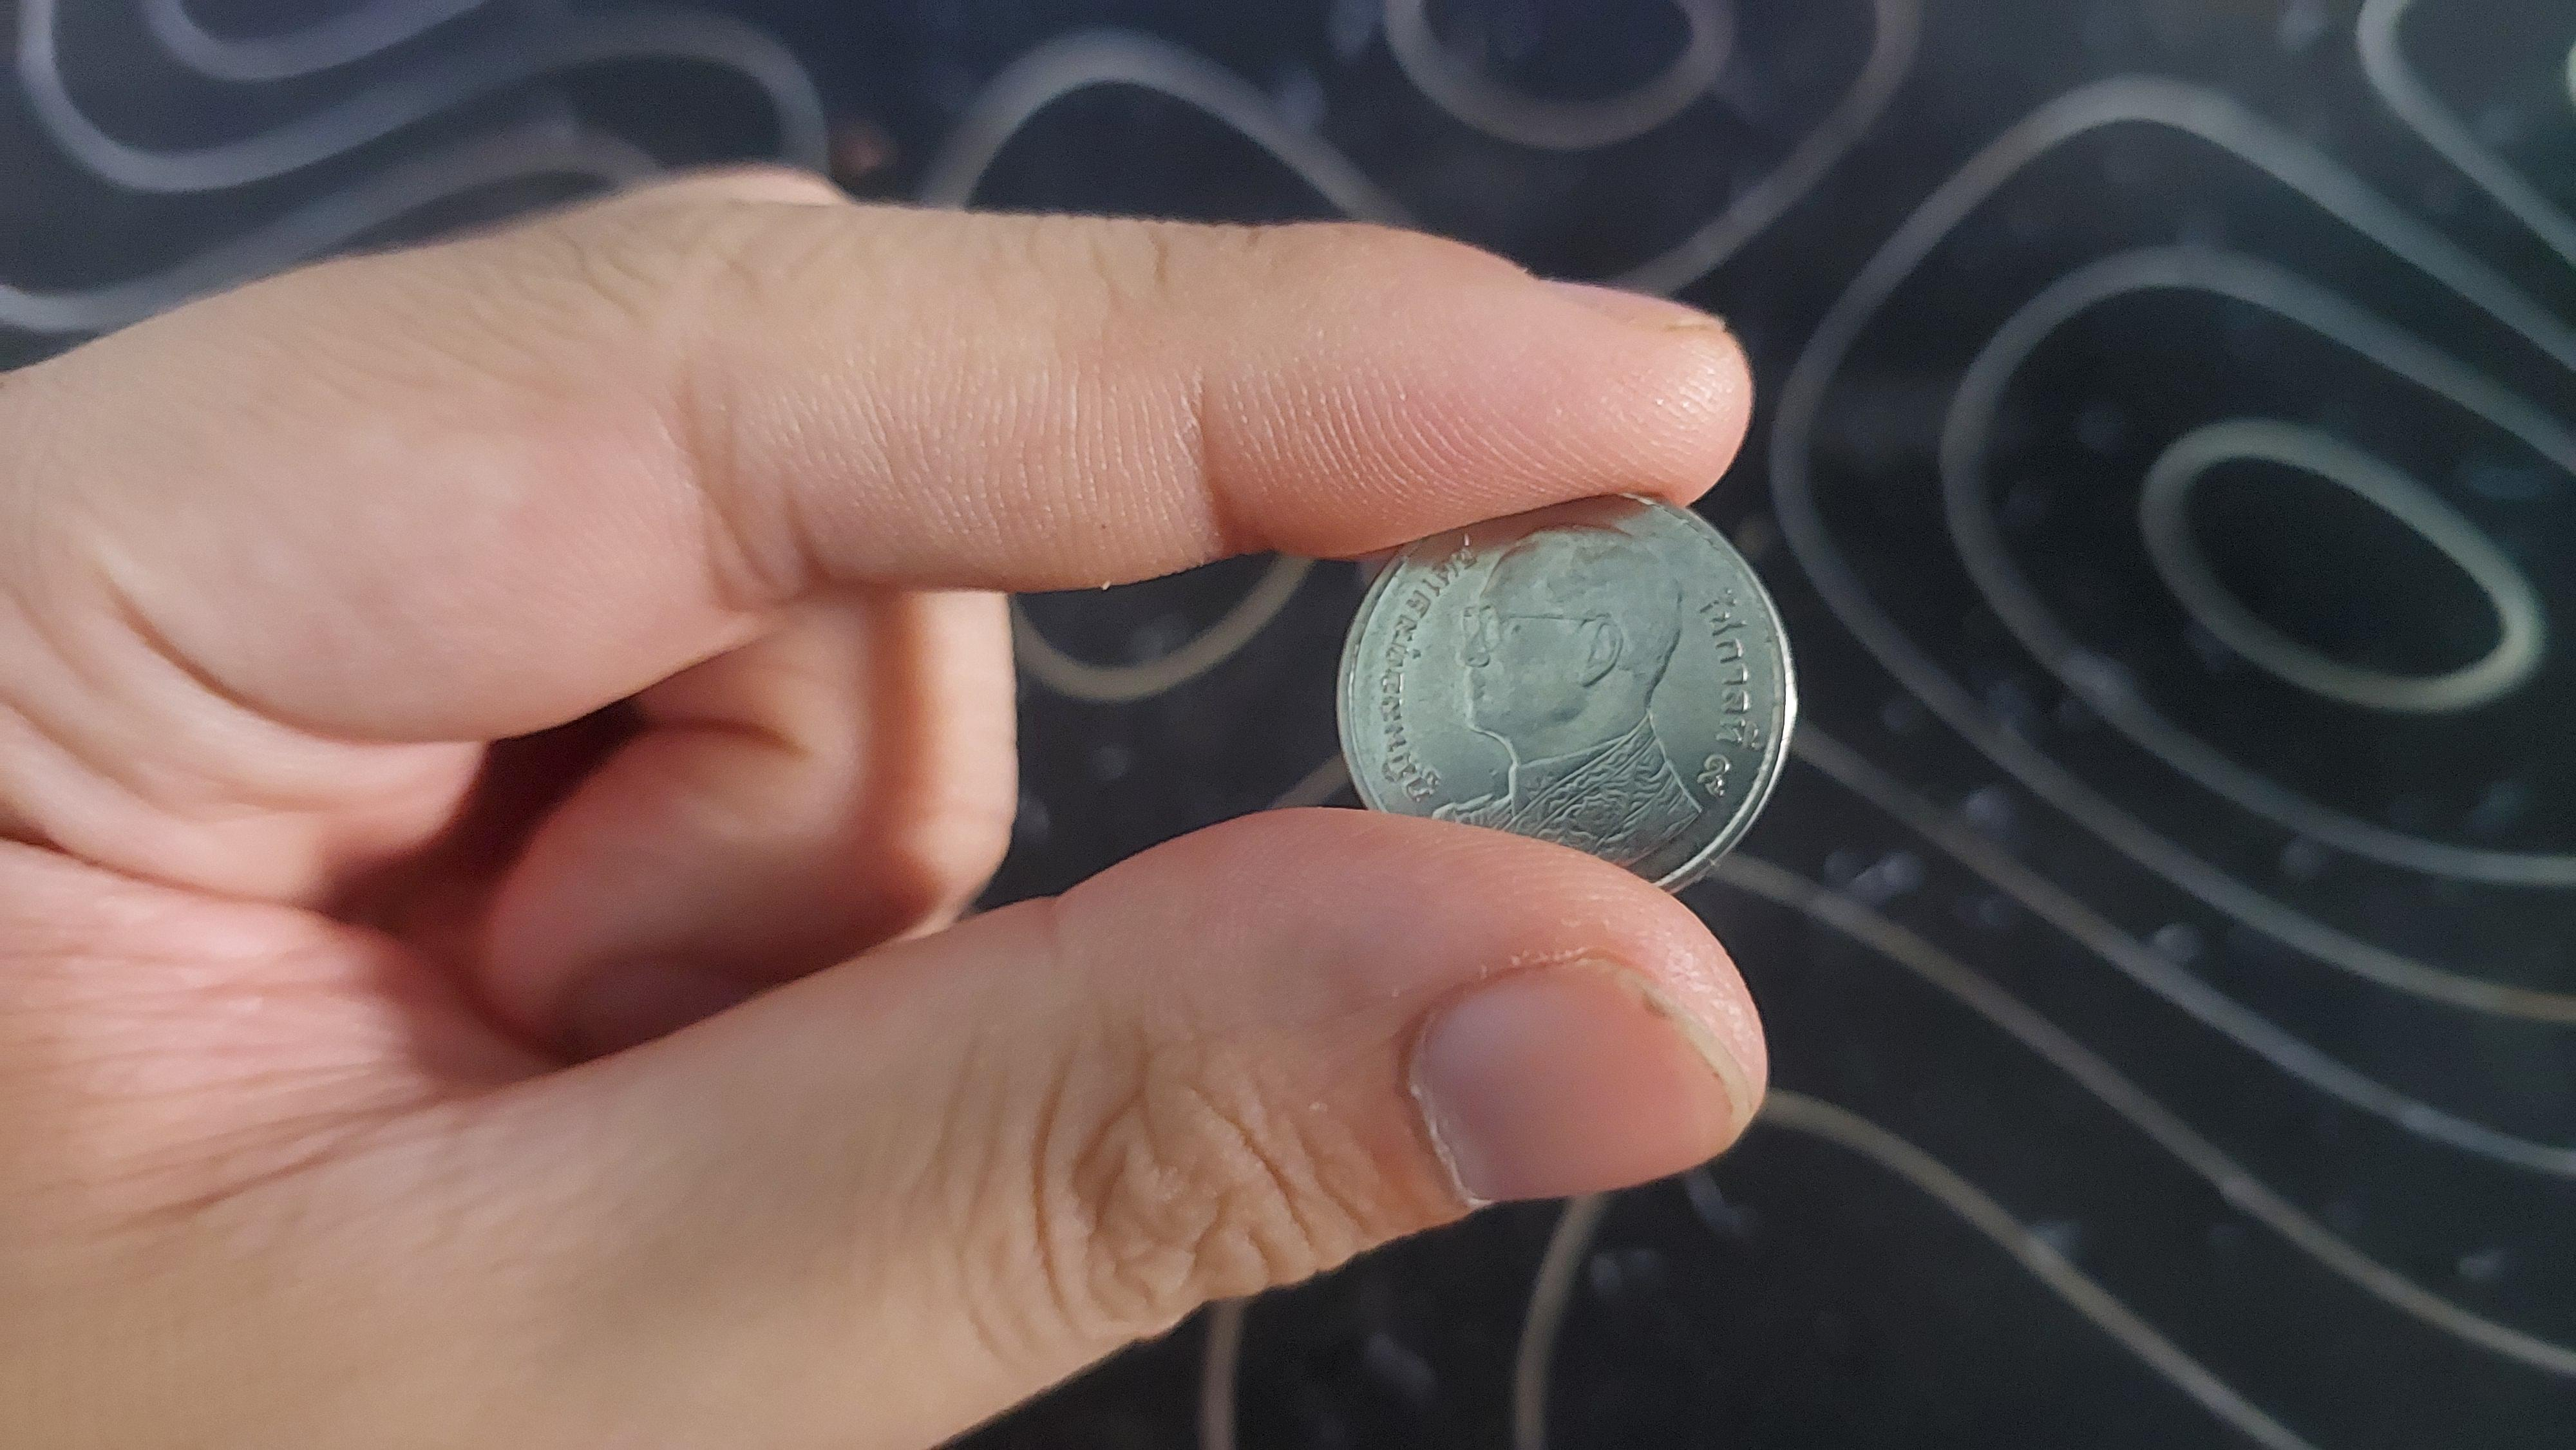1baht: (1290, 371, 1854, 962)
